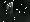person: (8, 4, 13, 14)
